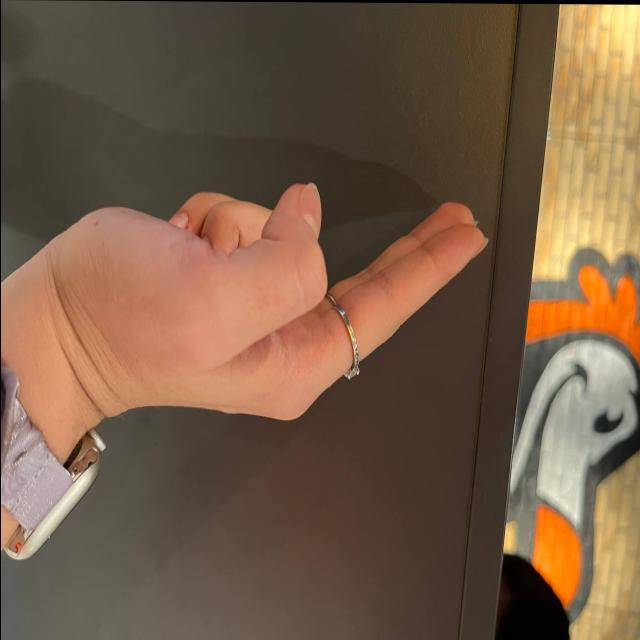d: (93, 132, 487, 428)
